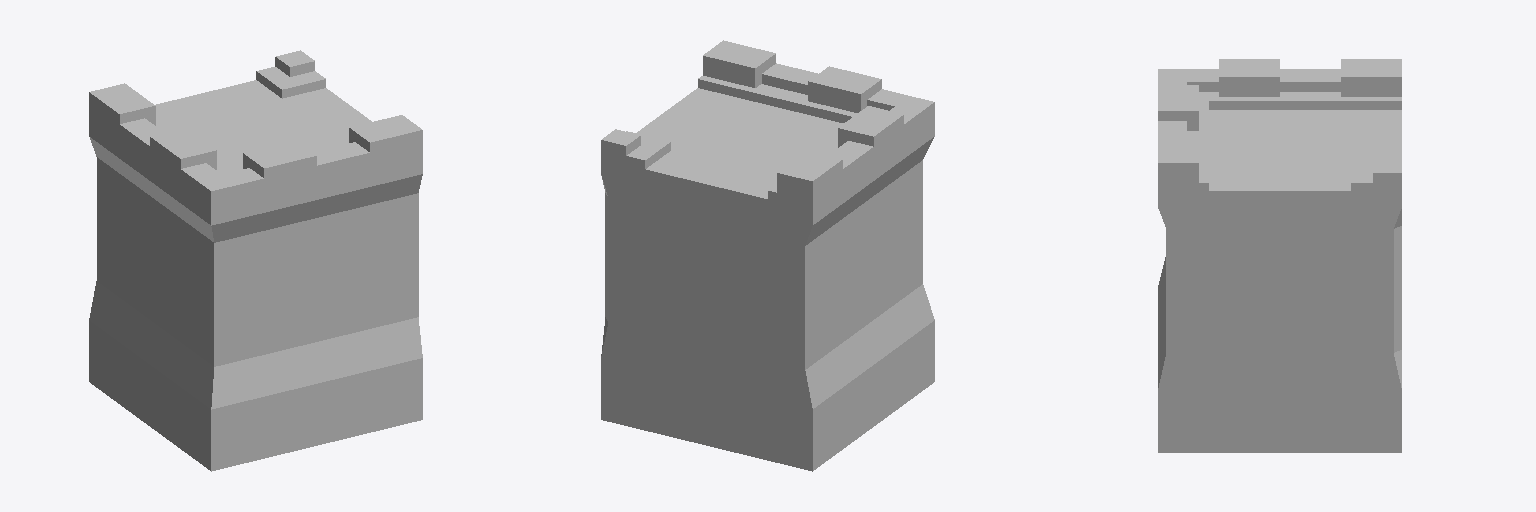
Rendered from wallCorner.obj.
3 views of the same model, side by side, from view 1: azimuth 30°, elevation 25°; view 2: azimuth 150°, elevation 25°; view 3: azimuth 270°, elevation 25° (orthographic).
Visible parts, largest first — view 1: wallCorner; view 2: wallCorner; view 3: wallCorner.
Part boxes in pixels (x1,y1,x2,y2): wallCorner: (89,50,422,471); wallCorner: (601,40,934,471); wallCorner: (1158,59,1401,452).
Bounding box in the file's own units: 10 × 13.1 × 10.